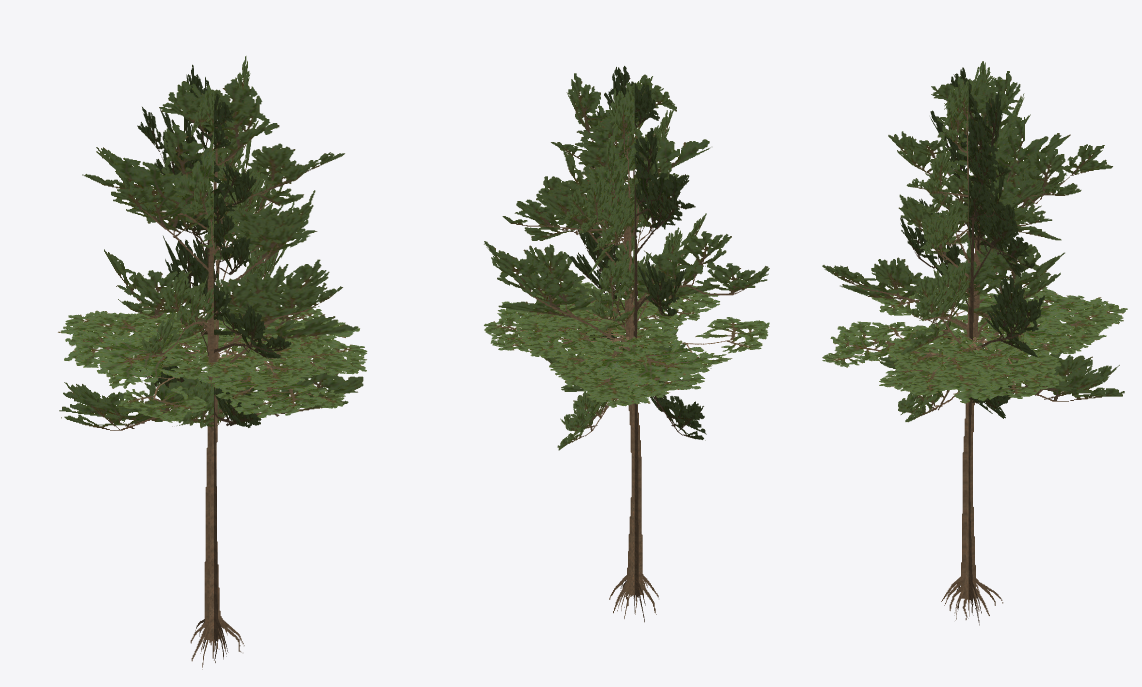
The picture shows the model from 3 angles, left to right: view 1: azimuth 30°, elevation 25°; view 2: azimuth 150°, elevation 25°; view 3: azimuth 270°, elevation 25°; orthographic projection. The views are drawn at different scales.
Parts seen in each view (by area): view 1: Pine_medium_2_Billboard_LOD3_Pine_medium_2_Billboard_Mat_0; view 2: Pine_medium_2_Billboard_LOD3_Pine_medium_2_Billboard_Mat_0; view 3: Pine_medium_2_Billboard_LOD3_Pine_medium_2_Billboard_Mat_0.
Part boxes in pixels (<box>): Pine_medium_2_Billboard_LOD3_Pine_medium_2_Billboard_Mat_0: <box>58,56,367,669</box>; Pine_medium_2_Billboard_LOD3_Pine_medium_2_Billboard_Mat_0: <box>484,66,769,622</box>; Pine_medium_2_Billboard_LOD3_Pine_medium_2_Billboard_Mat_0: <box>822,61,1127,625</box>.
Size of the model in its own units: 5.89 by 12.65 by 6.34.
